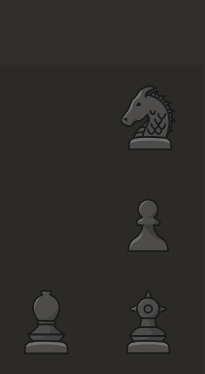F: (115, 283, 183, 362)
H: (114, 77, 187, 159)
P: (114, 194, 185, 262)
W: (12, 278, 80, 365)
